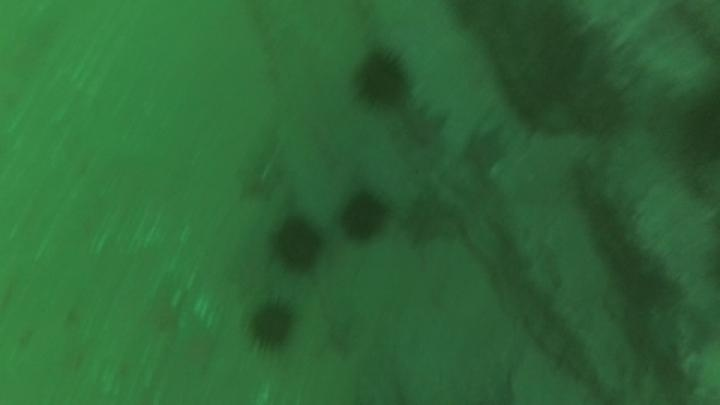echinus: (349, 45, 415, 112), (268, 213, 327, 275), (678, 88, 720, 166), (244, 297, 299, 354), (337, 188, 390, 244)
starfish: (400, 190, 458, 248), (461, 125, 509, 177)
